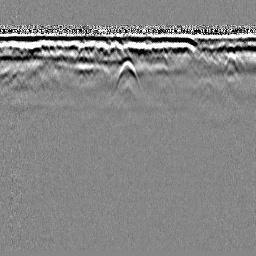cavity: (113, 58, 142, 91)
